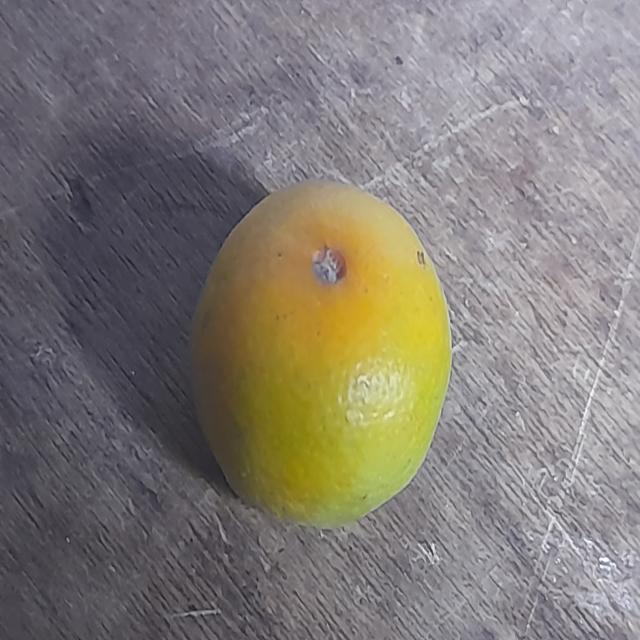greening: (192, 176, 456, 532)
